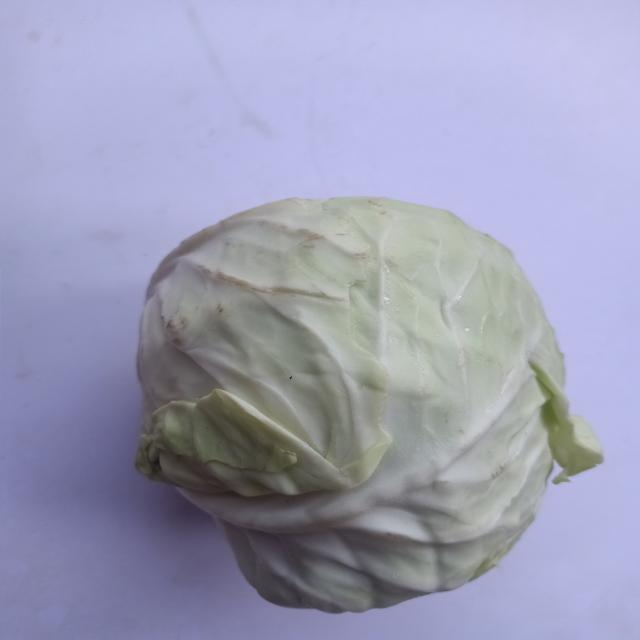Cabbage: (124, 178, 610, 615)
